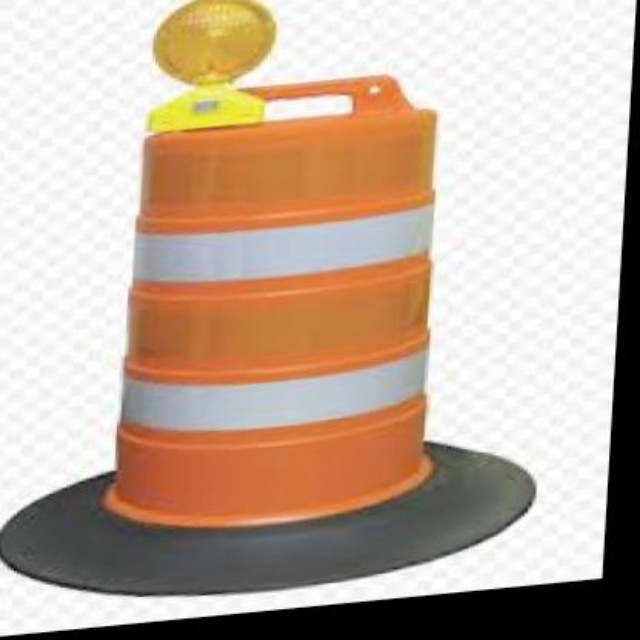obstacle: (66, 100, 477, 557)
